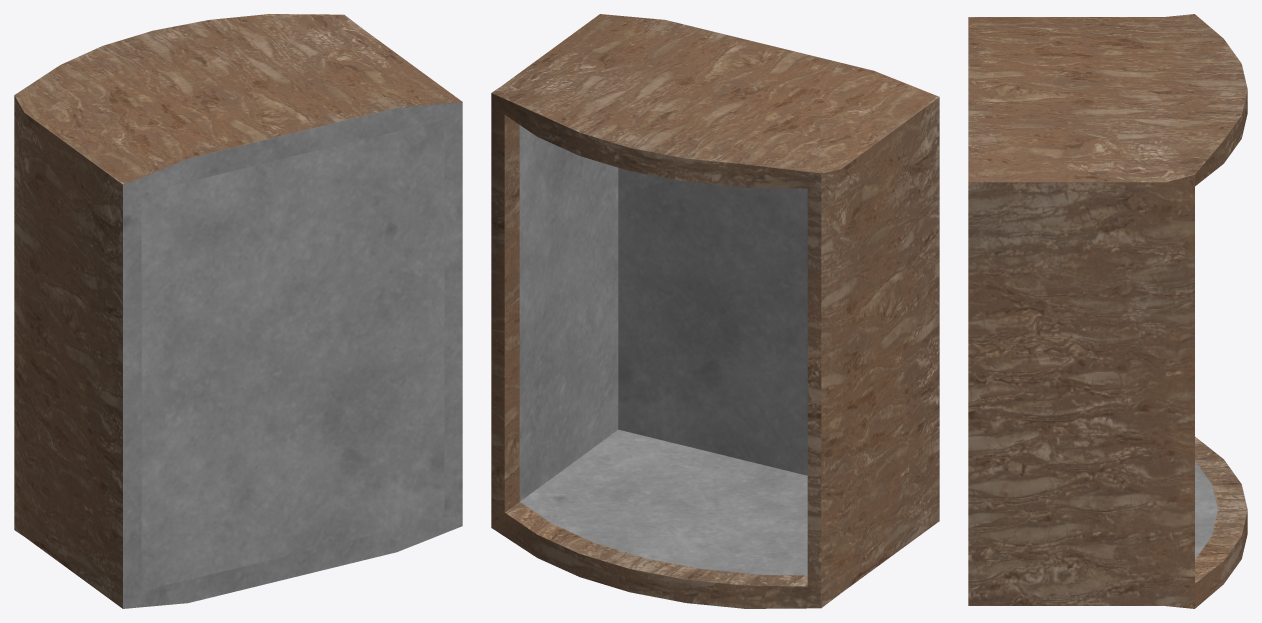
File: coffre.fbx
The picture shows the model from 3 angles, left to right: view 1: azimuth 30°, elevation 25°; view 2: azimuth 150°, elevation 25°; view 3: azimuth 270°, elevation 25°; orthographic projection.
Visible parts, largest first — view 1: Cylinder.032; view 2: Cylinder.032; view 3: Cylinder.032.
Boxes of the visible parts, box(x1,y1,x2,y2) form: Cylinder.032: box(14, 14, 462, 608); Cylinder.032: box(491, 14, 939, 608); Cylinder.032: box(968, 14, 1247, 608).
Bounding box in the file's own units: 61.46 × 76.85 × 43.89.
